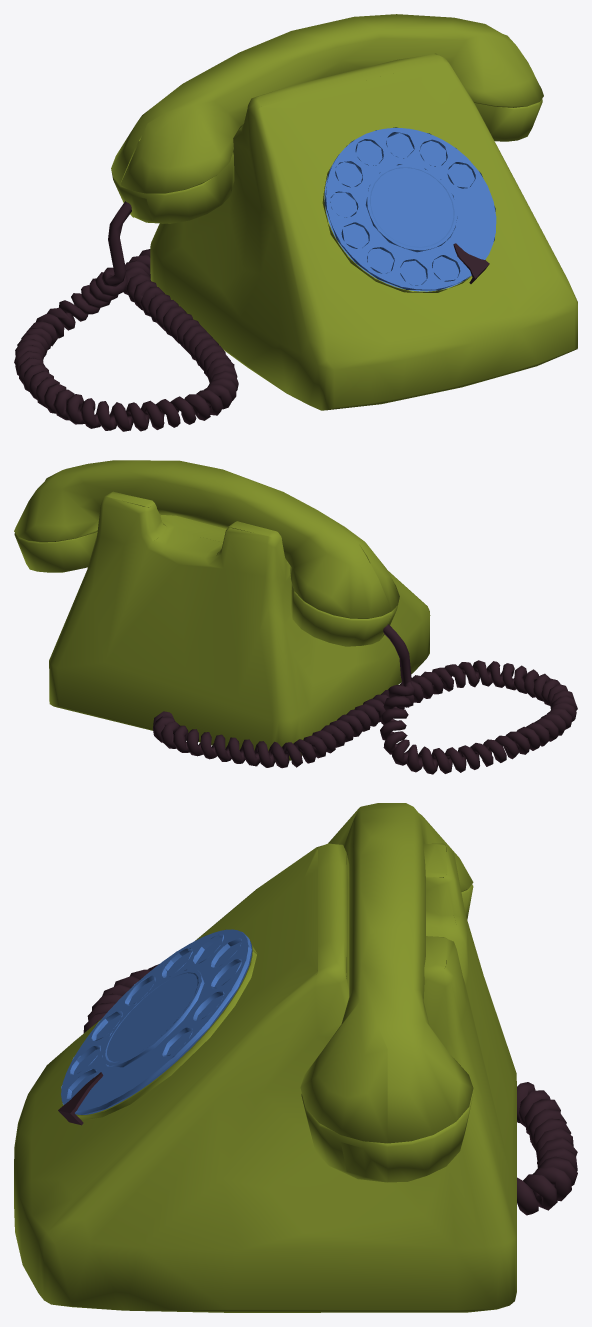
Rendered from Telephone.fbx.
3 views of the same model, one above another, from view 1: azimuth 30°, elevation 25°; view 2: azimuth 150°, elevation 25°; view 3: azimuth 270°, elevation 25° (orthographic). The views are drawn at different scales.
Visible parts, largest first — view 1: Telephone; view 2: Telephone; view 3: Telephone.
Part boxes in pixels (x1,y1,x2,y2): Telephone: (14, 14, 577, 431); Telephone: (14, 460, 577, 774); Telephone: (14, 803, 577, 1312).
Size of the model in its own units: 0.3983 by 0.1806 by 0.2565.
